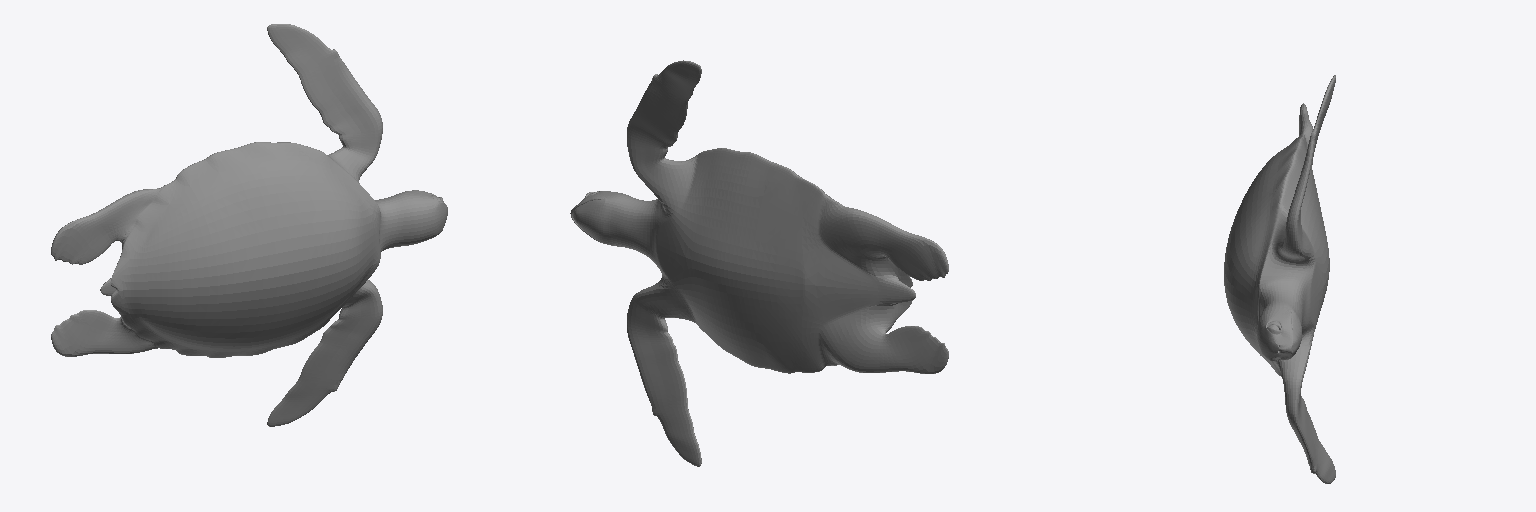
Rendered from Turtle.obj.
The picture shows the model from 3 angles: view 1: azimuth 30°, elevation 25°; view 2: azimuth 150°, elevation 25°; view 3: azimuth 270°, elevation 25°; orthographic projection.
Parts seen in each view (by area): view 1: 10042_Sea_Turtle_V1; view 2: 10042_Sea_Turtle_V1; view 3: 10042_Sea_Turtle_V1.
Part boxes in pixels (bbox=[...]): 10042_Sea_Turtle_V1: bbox=[51, 24, 447, 426]; 10042_Sea_Turtle_V1: bbox=[570, 60, 948, 466]; 10042_Sea_Turtle_V1: bbox=[1224, 75, 1335, 483].
Size of the model in its own units: 102 by 102 by 25.77.